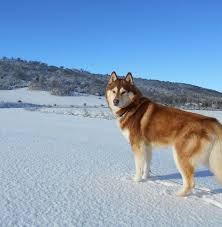Bulldog: (92, 55, 222, 205)
